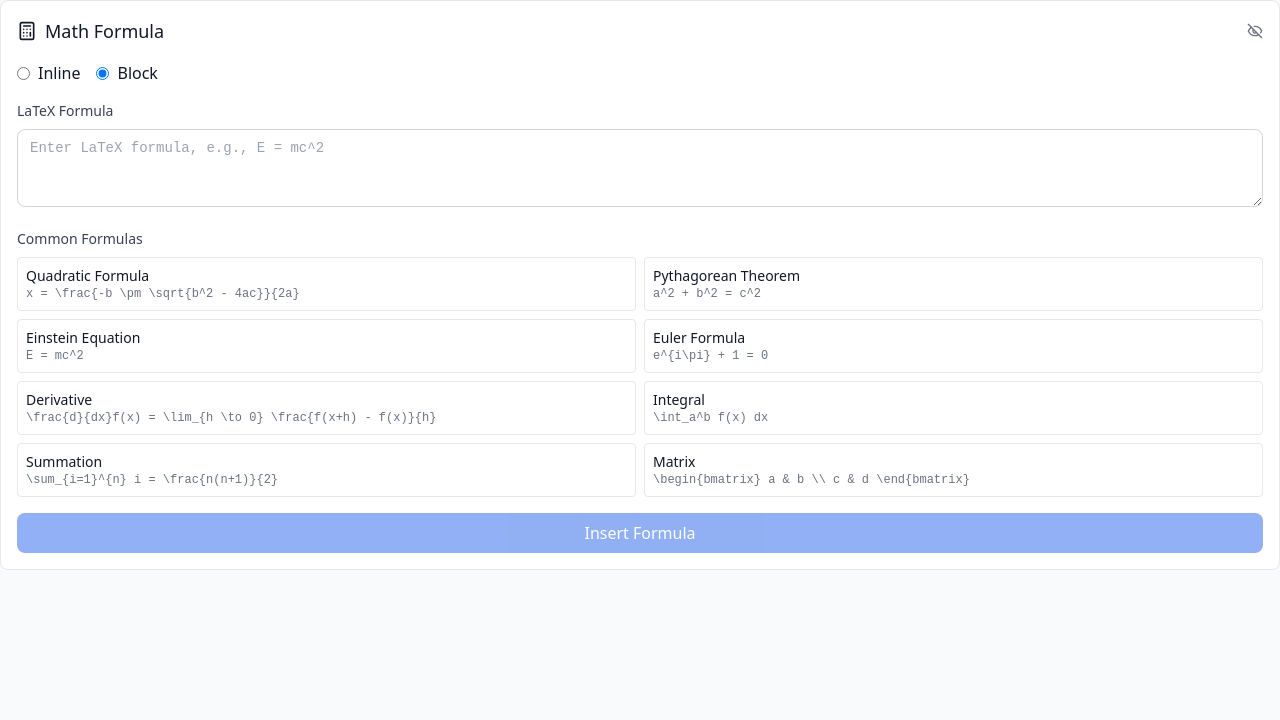
Test: MathEditor › blocks insertion of empty input and mismatched braces
This screenshot has width=1280, height=720.
Expected: the button "Insert Formula" is disabled, [17,513,1263,553]
Click the text box with test id "math-input": (640, 168) [17,129,1263,207]
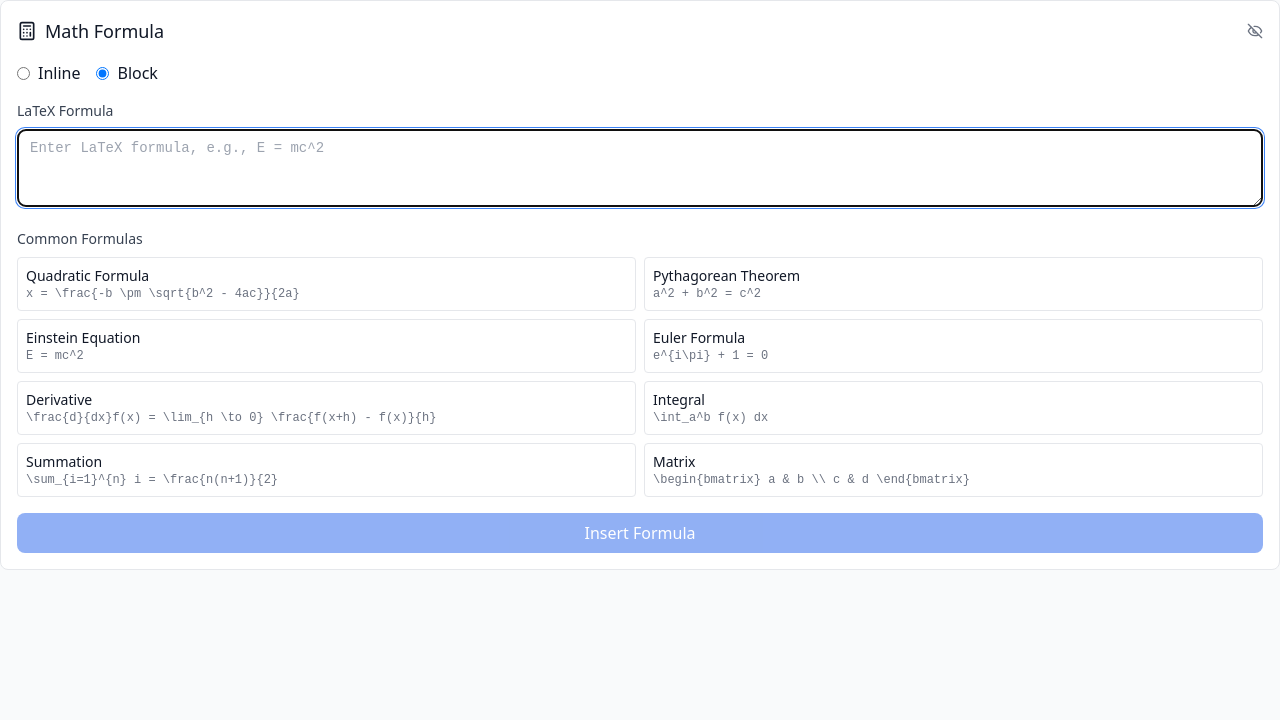
Type keys "\\frac{1}{2"
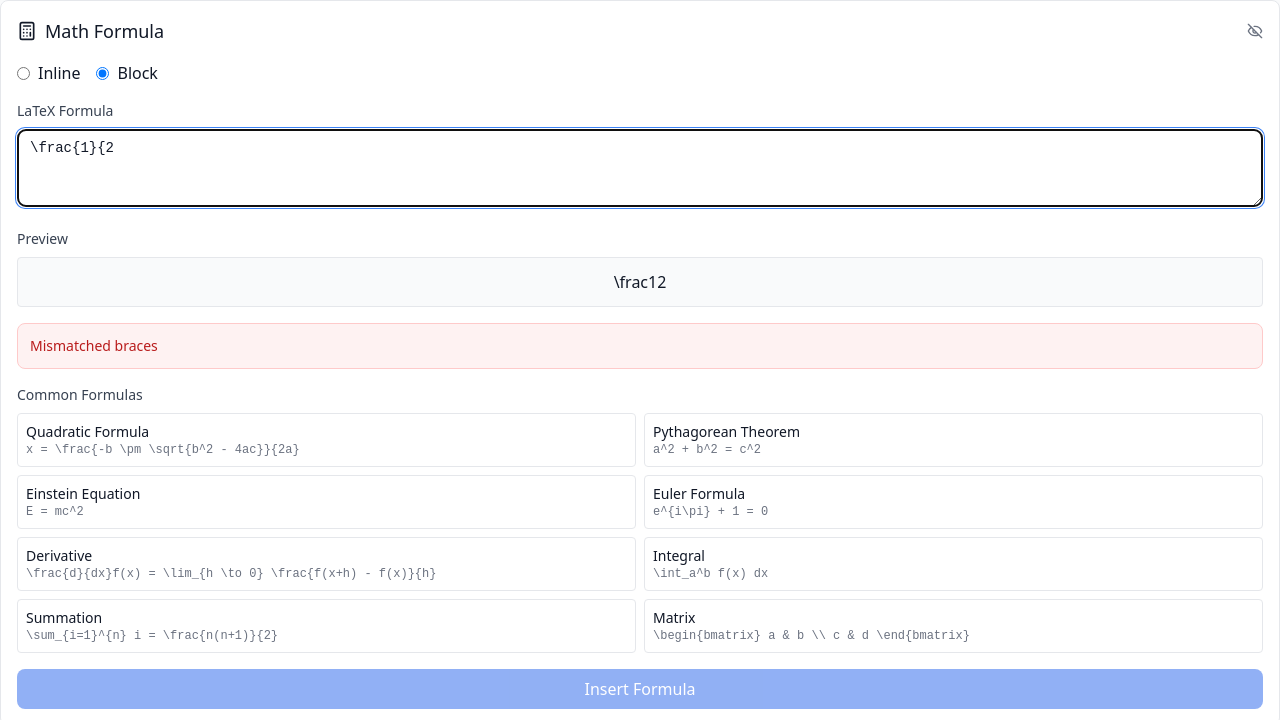
Expected: the button "Insert Formula" is disabled, [17,669,1263,709]
Expected: the text with test id "math-error" reads "Mismatched braces", [30,336,158,355]
Type keys "}"
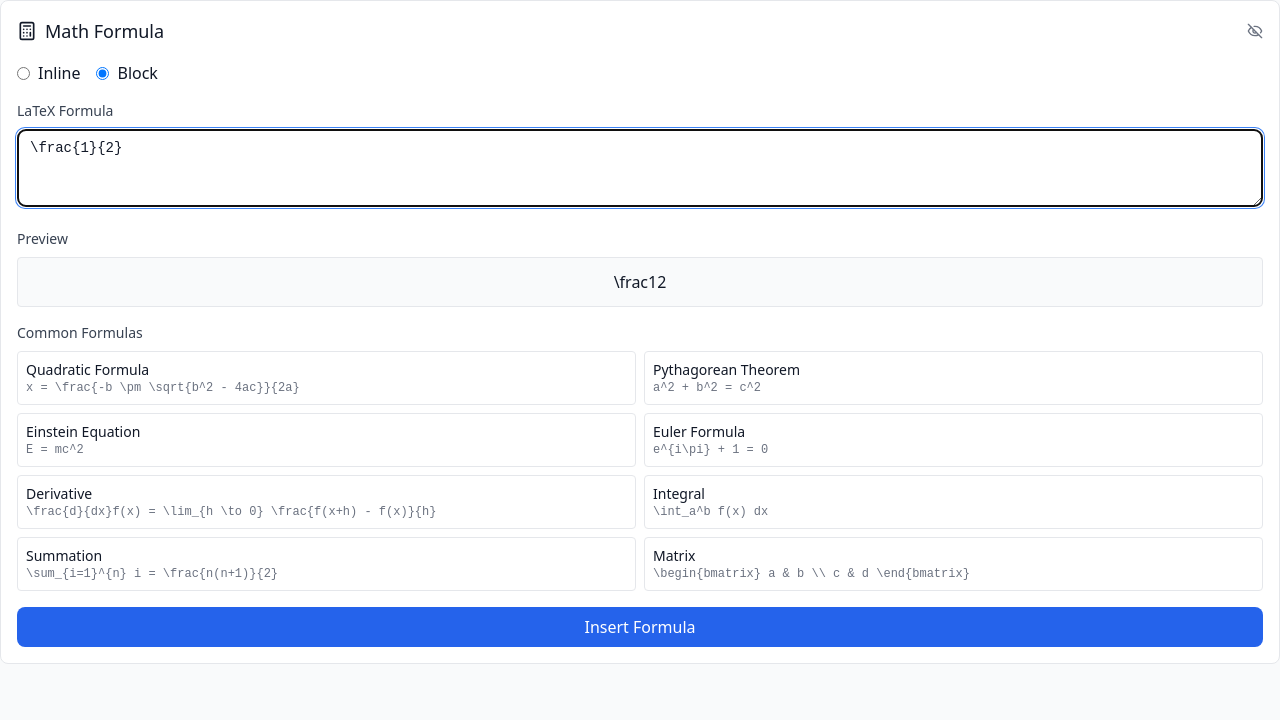
Expected: the text with test id "math-error" is gone
Expected: the button "Insert Formula" is enabled, [17,607,1263,647]
